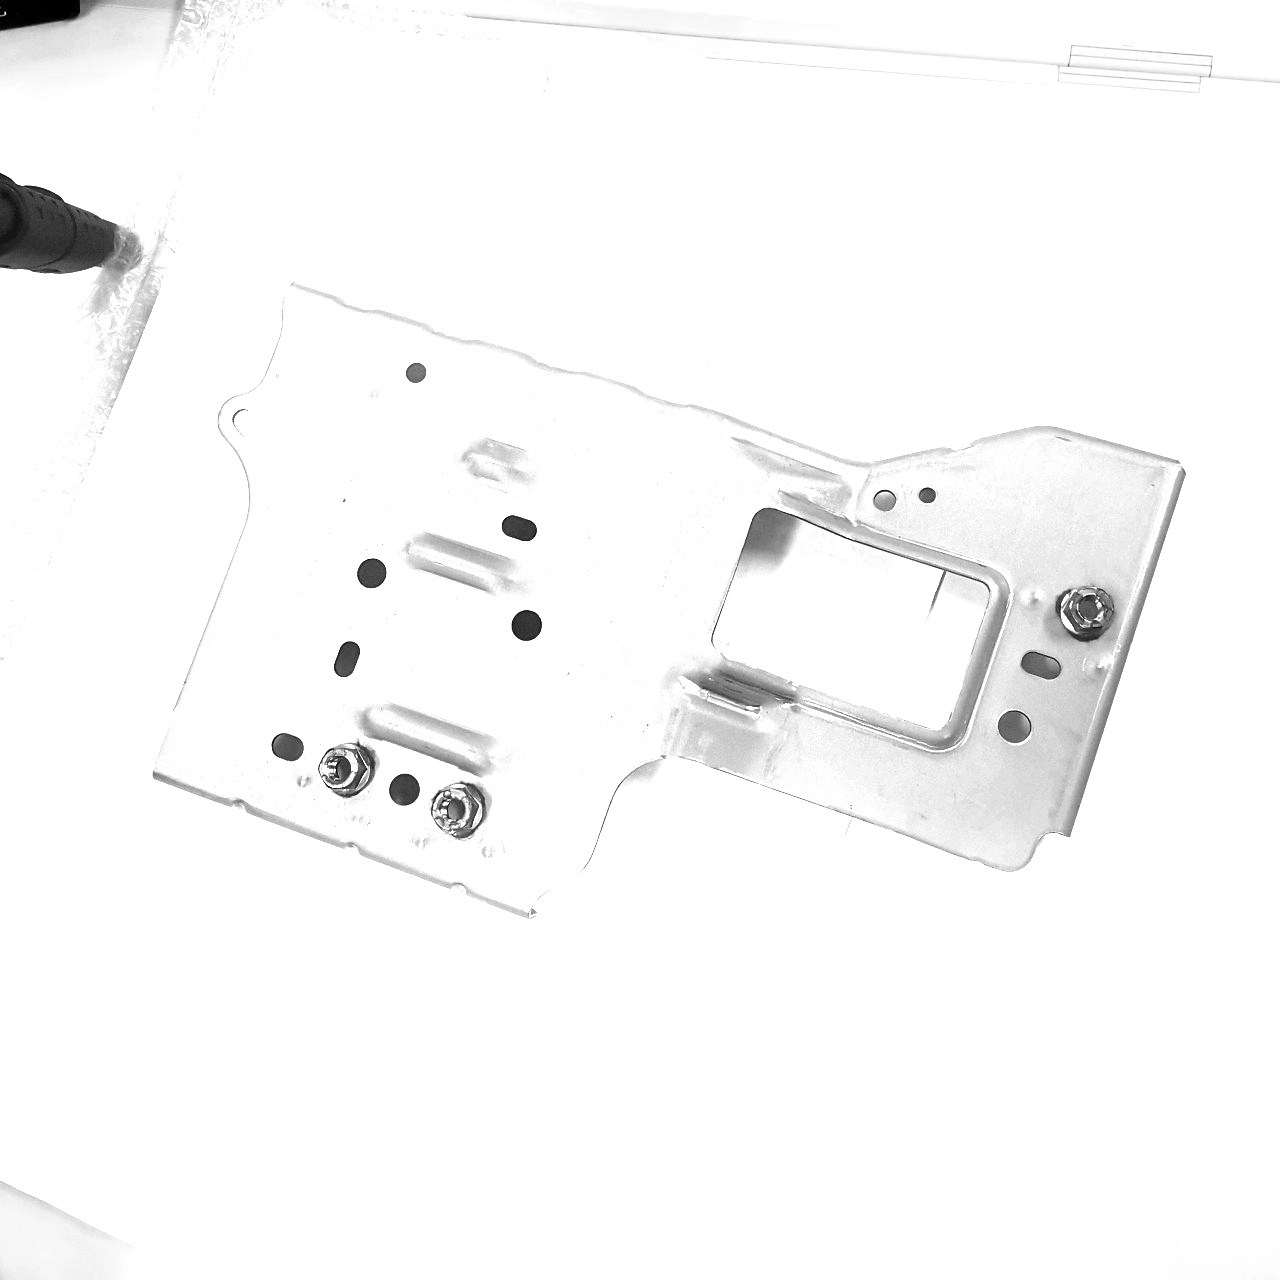dog: (422, 776, 493, 842), (1050, 580, 1118, 644), (314, 738, 380, 802)
